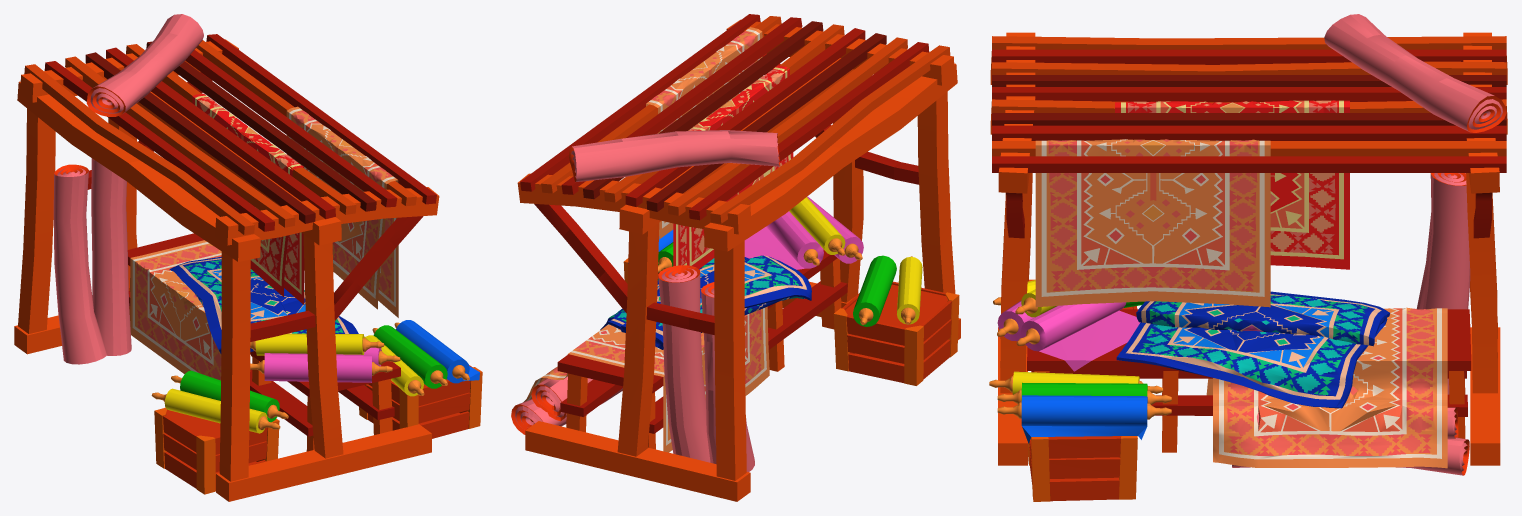
The model's file is winter_castle_marketstall2.glb.
3 views of the same model, side by side, from view 1: azimuth 30°, elevation 25°; view 2: azimuth 150°, elevation 25°; view 3: azimuth 270°, elevation 25° (orthographic). The views are drawn at different scales.
Visible parts, largest first — view 1: MarketStall2_Medieval_0; view 2: MarketStall2_Medieval_0; view 3: MarketStall2_Medieval_0.
Part boxes in pixels (bbox=[...]): MarketStall2_Medieval_0: bbox=[14, 14, 482, 501]; MarketStall2_Medieval_0: bbox=[511, 14, 960, 501]; MarketStall2_Medieval_0: bbox=[989, 14, 1507, 501].
Bounding box in the file's own units: 1.51 × 1.52 × 2.04.
1 material, 1 textured.
